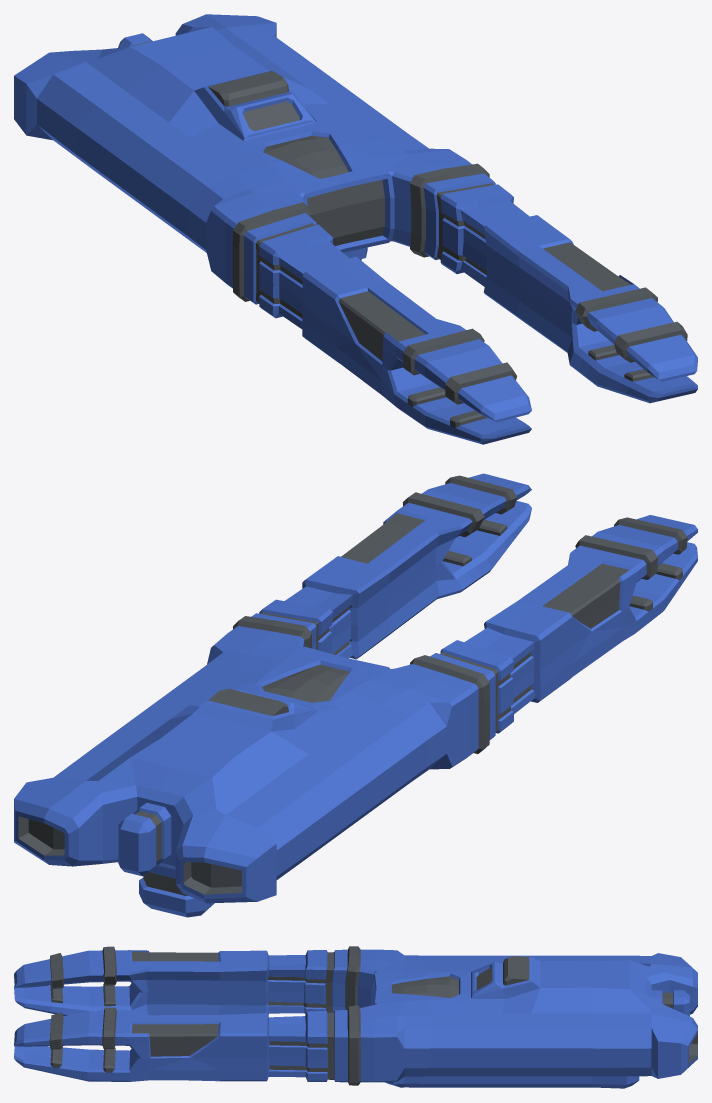
The model's file is Fighter_01__Blue.fbx.
The picture shows the model from 3 angles, top to bottom: view 1: azimuth 30°, elevation 25°; view 2: azimuth 150°, elevation 25°; view 3: azimuth 270°, elevation 25°; orthographic projection. The views are drawn at different scales.
Visible parts, largest first — view 1: Fighter_01__Blue; view 2: Fighter_01__Blue; view 3: Fighter_01__Blue.
Part boxes in pixels (x1,y1,x2,y2): Fighter_01__Blue: (14,14,697,444); Fighter_01__Blue: (14,473,697,917); Fighter_01__Blue: (14,946,697,1088).
Size of the model in its own units: 380 by 225 by 1235.
Materials: 2 (2 with a texture image).
